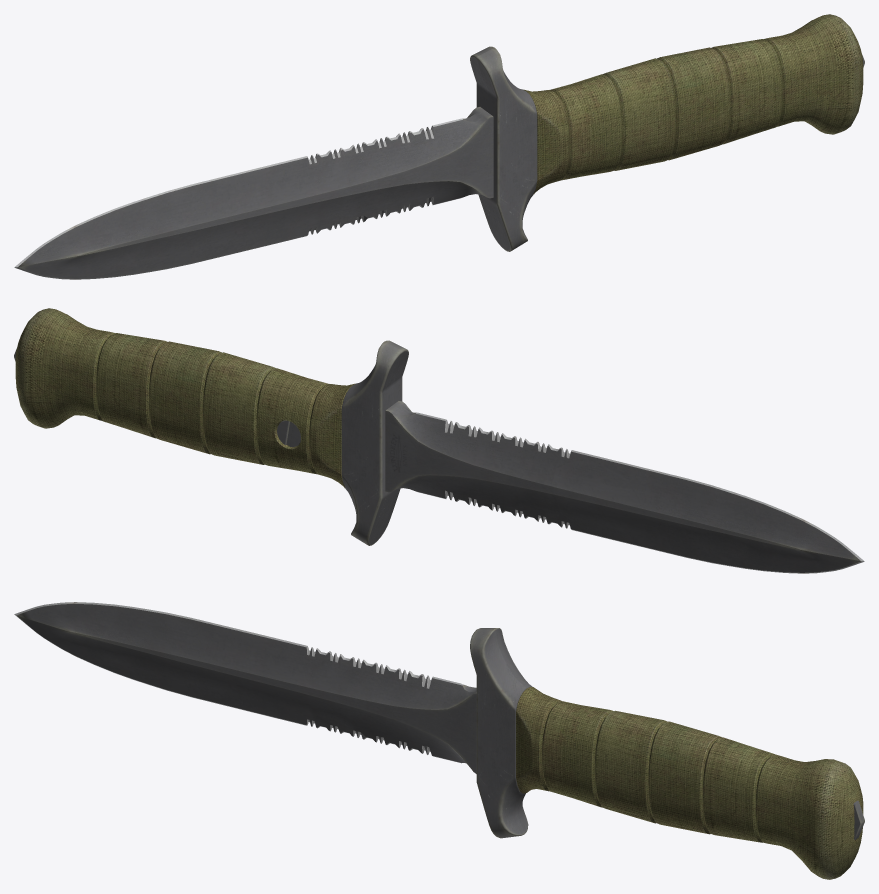
Rendered from knife_ct.glb.
The picture shows the model from 3 angles, top to bottom: view 1: azimuth 30°, elevation 25°; view 2: azimuth 150°, elevation 25°; view 3: azimuth 330°, elevation 25°; orthographic projection.
Visible parts, largest first — view 1: weapon_knife_default_ct; view 2: weapon_knife_default_ct; view 3: weapon_knife_default_ct.
Part boxes in pixels (box(x1,y1,x2,y2)): weapon_knife_default_ct: box(14, 14, 864, 279); weapon_knife_default_ct: box(14, 308, 864, 573); weapon_knife_default_ct: box(14, 602, 864, 879).
Size of the model in its own units: 0.3856 by 0.0889 by 0.0276.
Materials: 1 (1 with a texture image).
